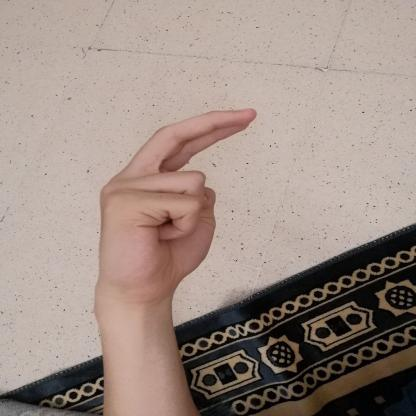ZAY: (82, 100, 269, 313)
